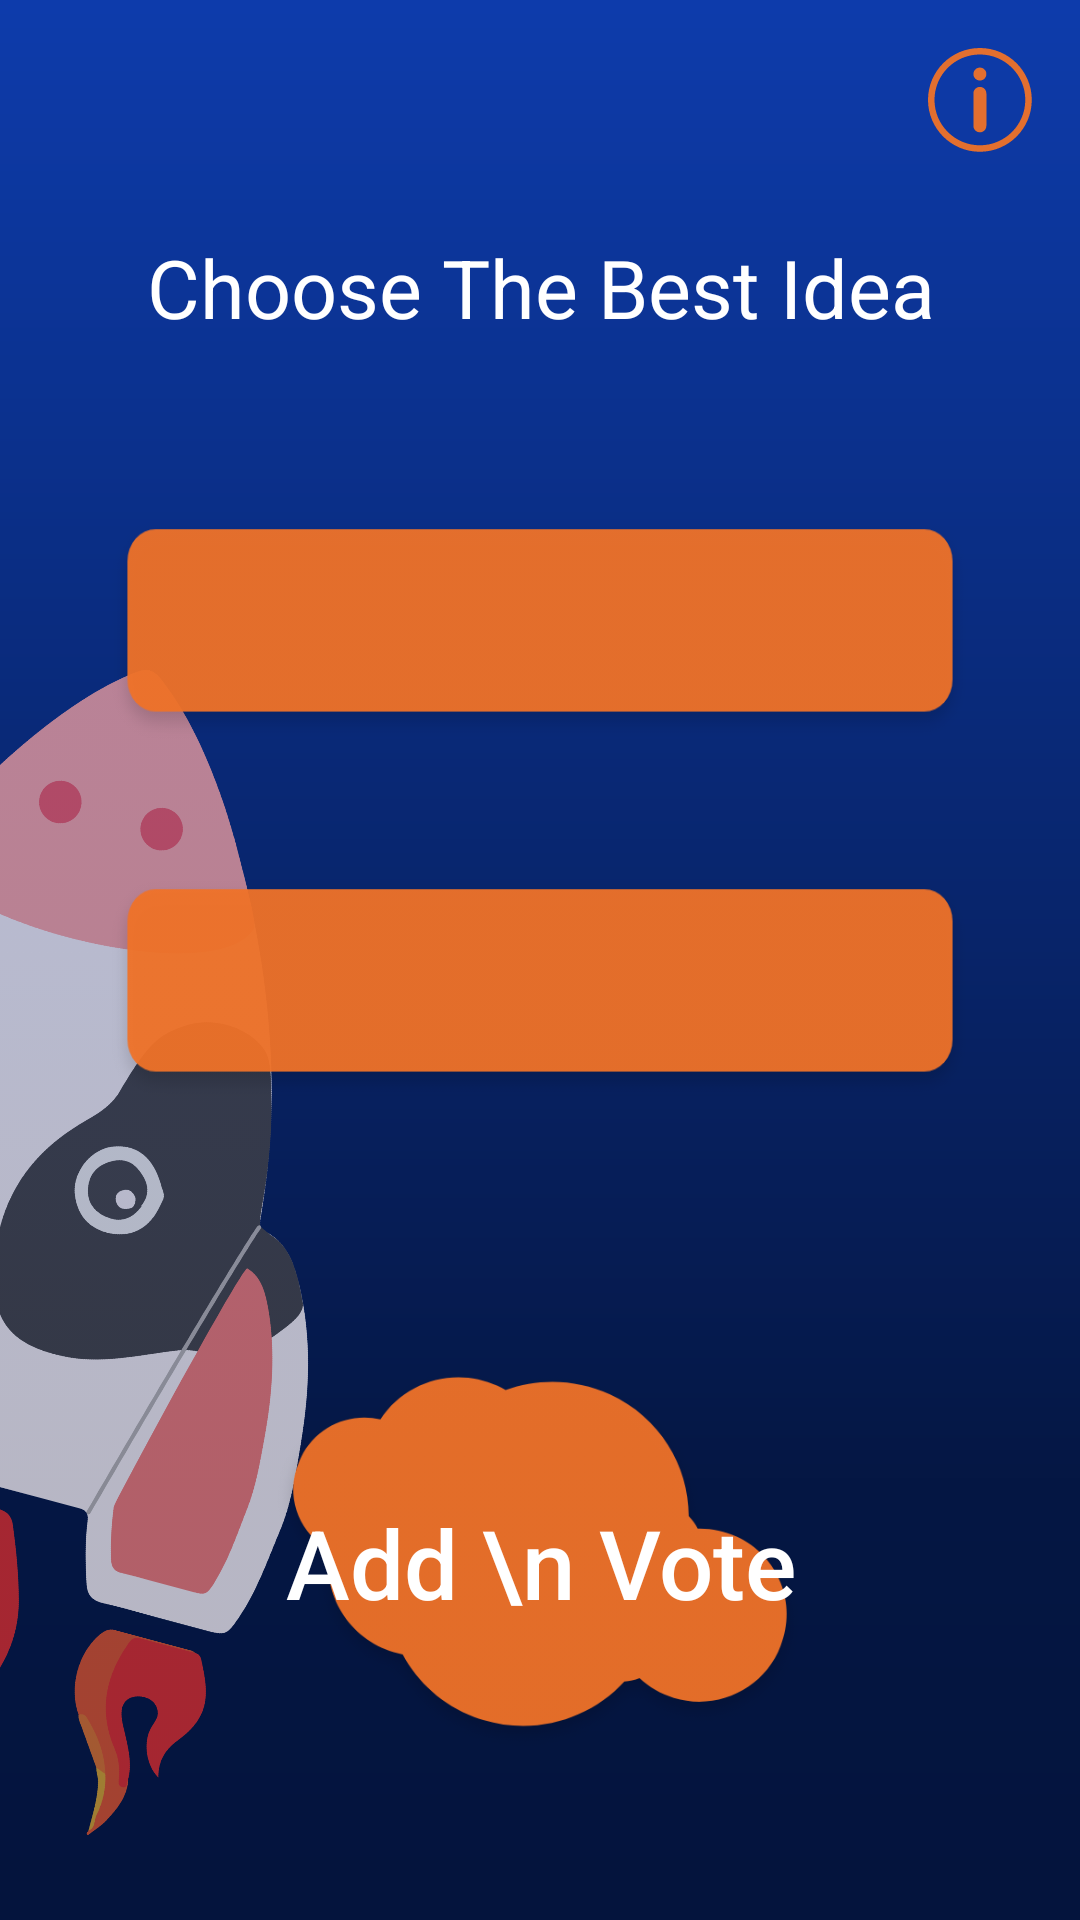

Screen size 1080×1920. Icon name, then its center in pixels as point (x, y):
info but: point (980, 100)
